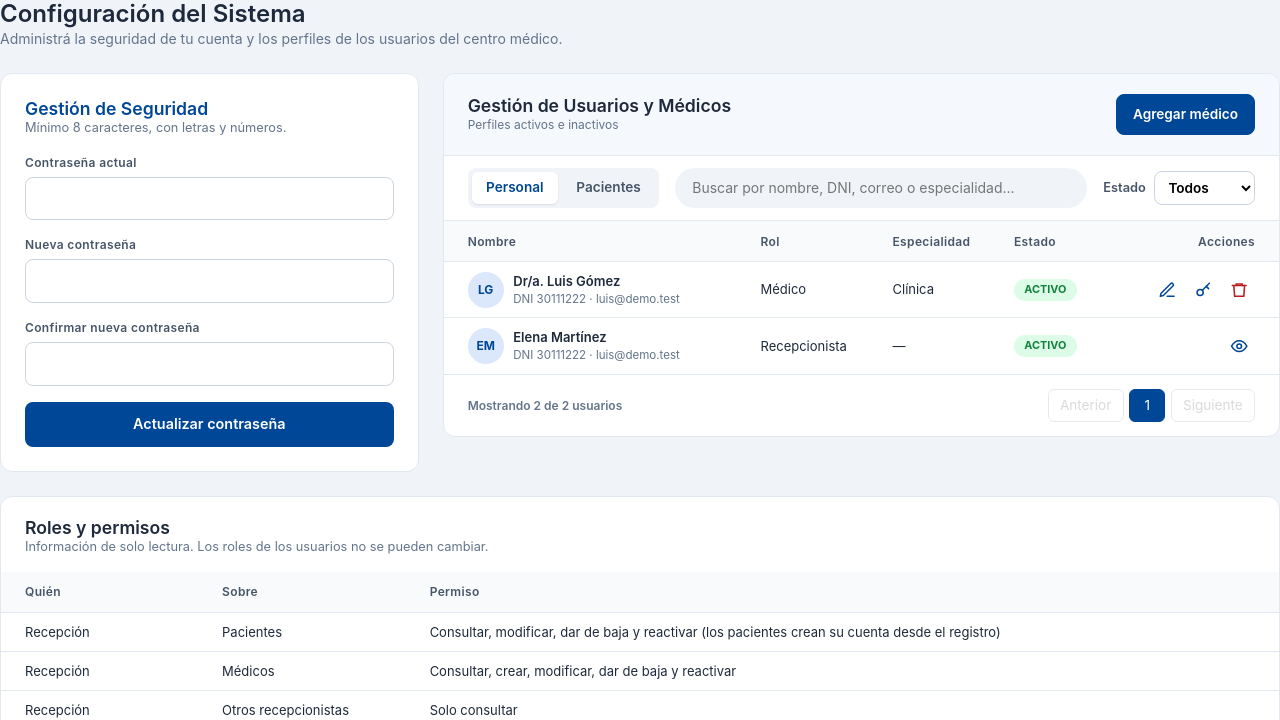
Test: Configuración del Sistema › asigna una contraseña provisoria
Click the button named "Asignar contraseña provisoria a Luis Gómez".
click(1203, 290)  # box [1187, 274, 1219, 306]
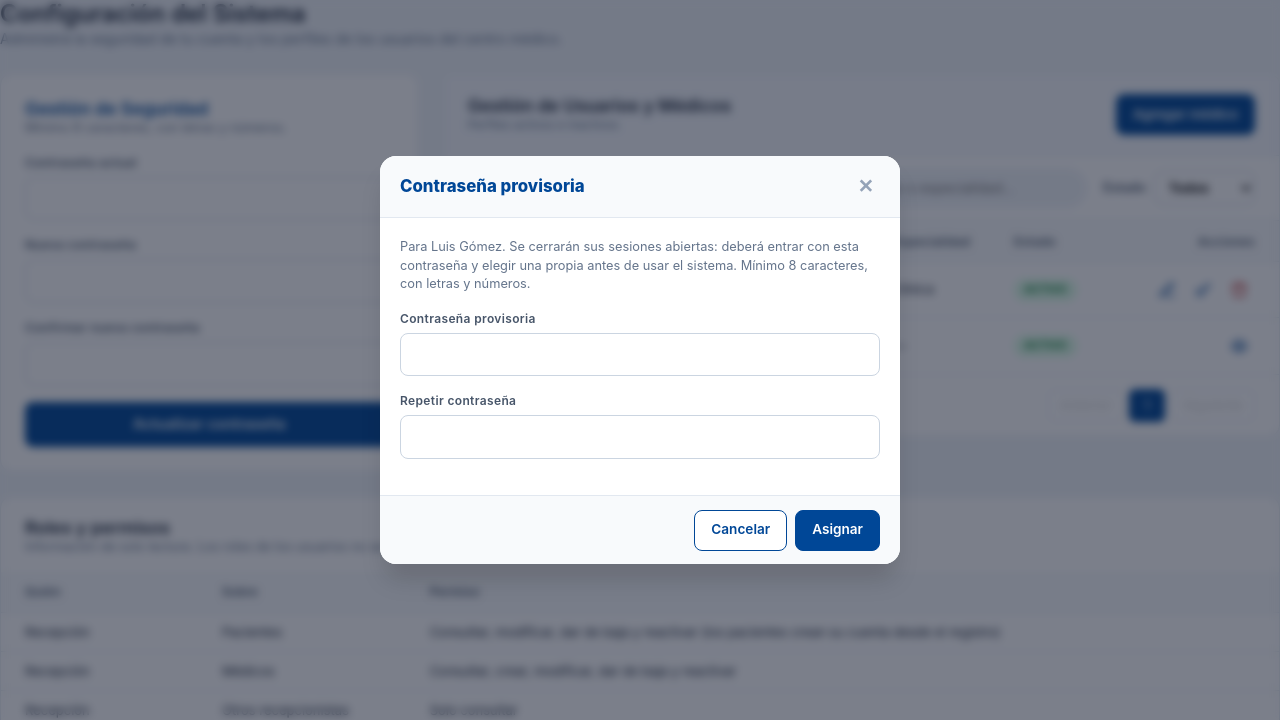
Type "Provisoria2026" into the password field labelled "Contraseña provisoria".
click(640, 355); type("Provisoria2026")  # box [400, 333, 880, 376]
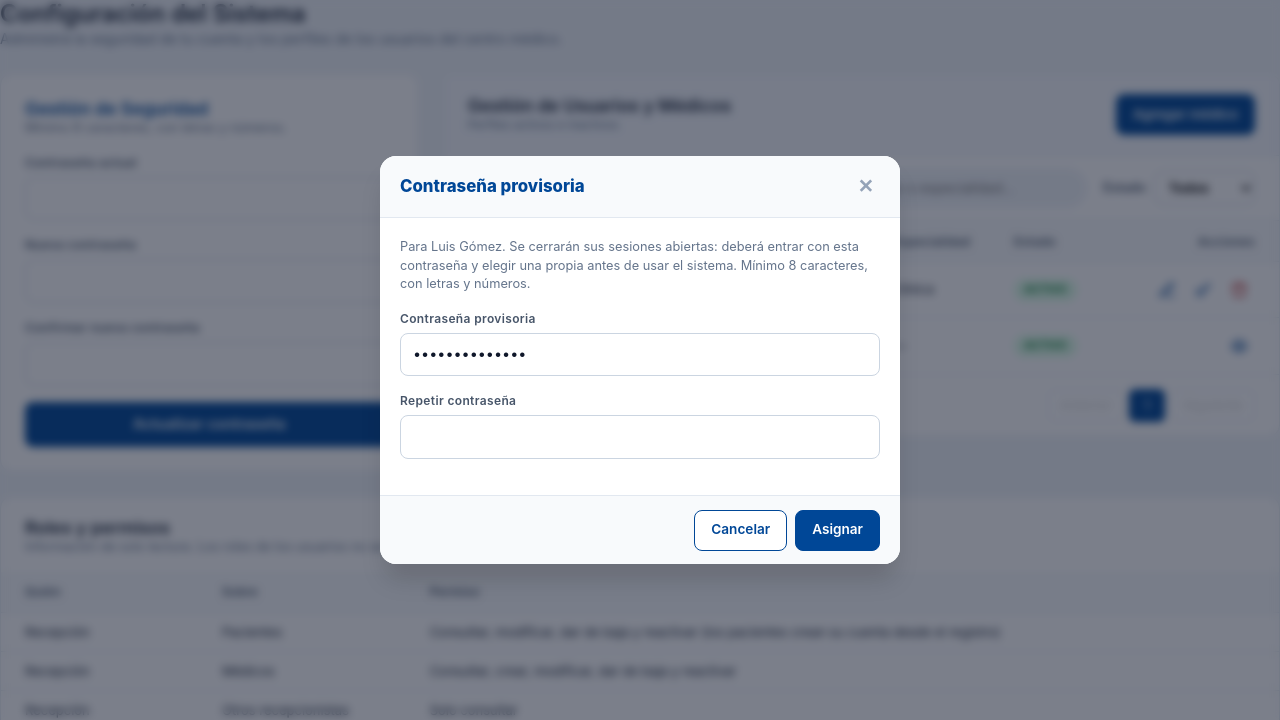
Type "Provisoria2026" into the password field labelled "Repetir contraseña".
click(640, 437); type("Provisoria2026")  # box [400, 416, 880, 459]
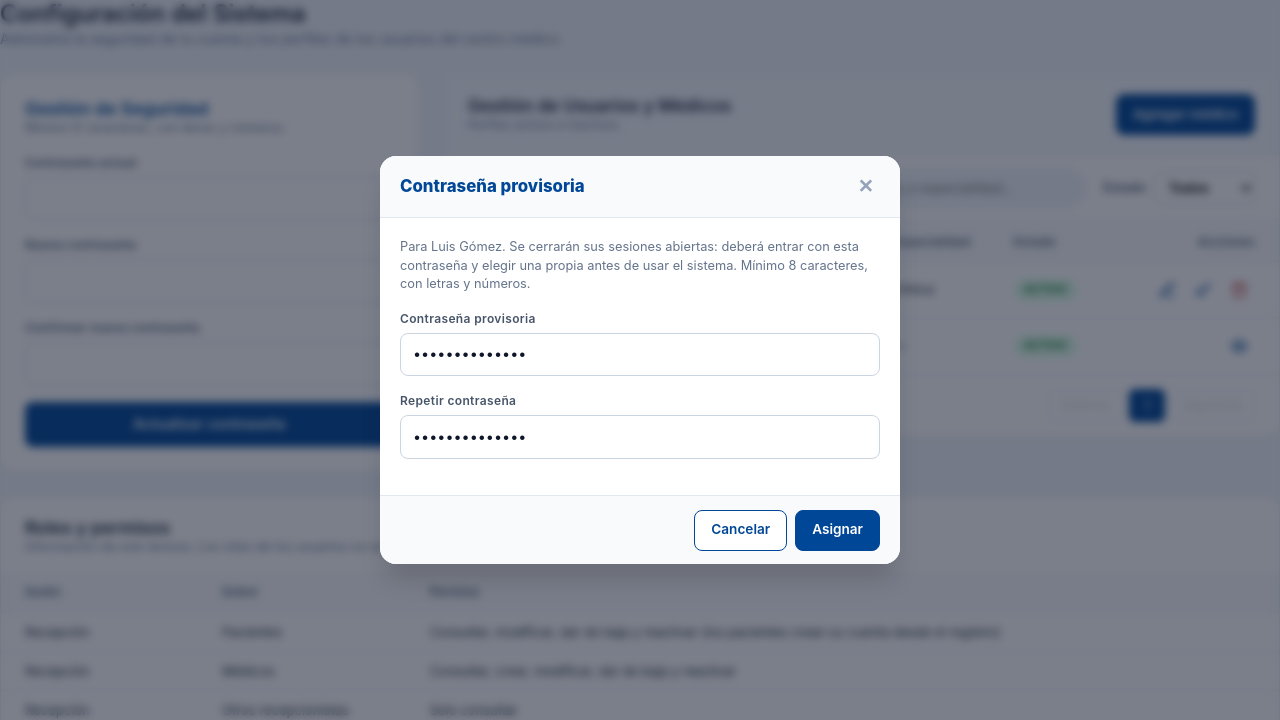
Click the button "Asignar".
click(838, 530)  # box [795, 510, 880, 551]
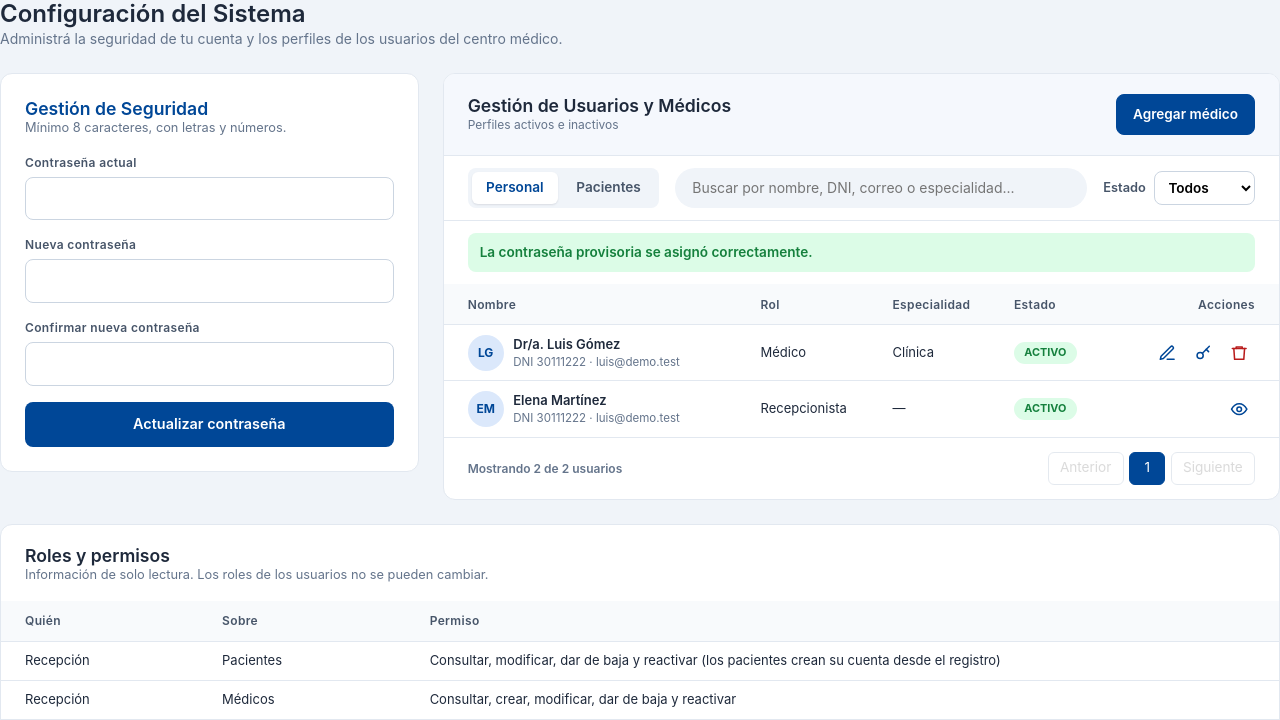
Expected: the text "La contraseña provisoria se asignó correctamente." is shown, [468, 234, 1255, 272]
